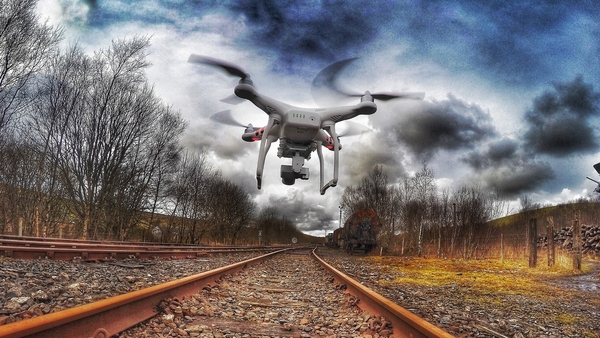drone: (186, 51, 427, 197)
